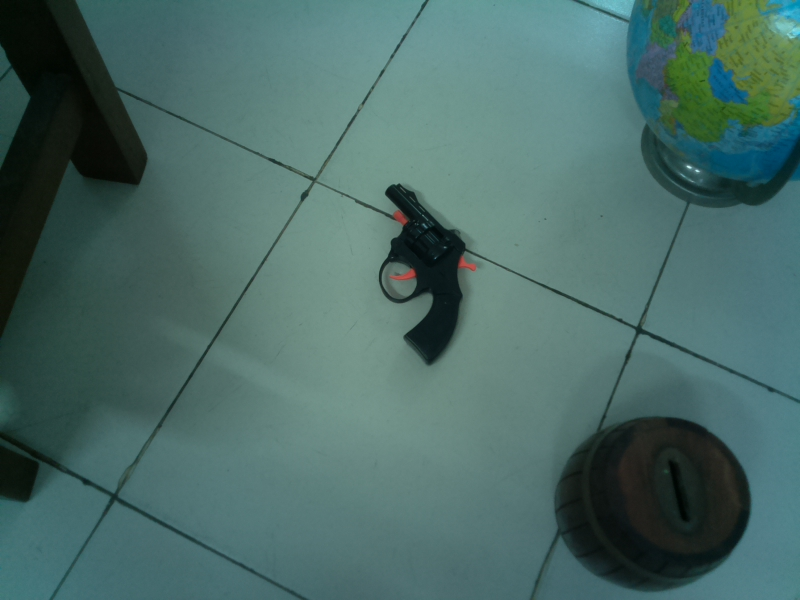Gun: (373, 179, 481, 370)
